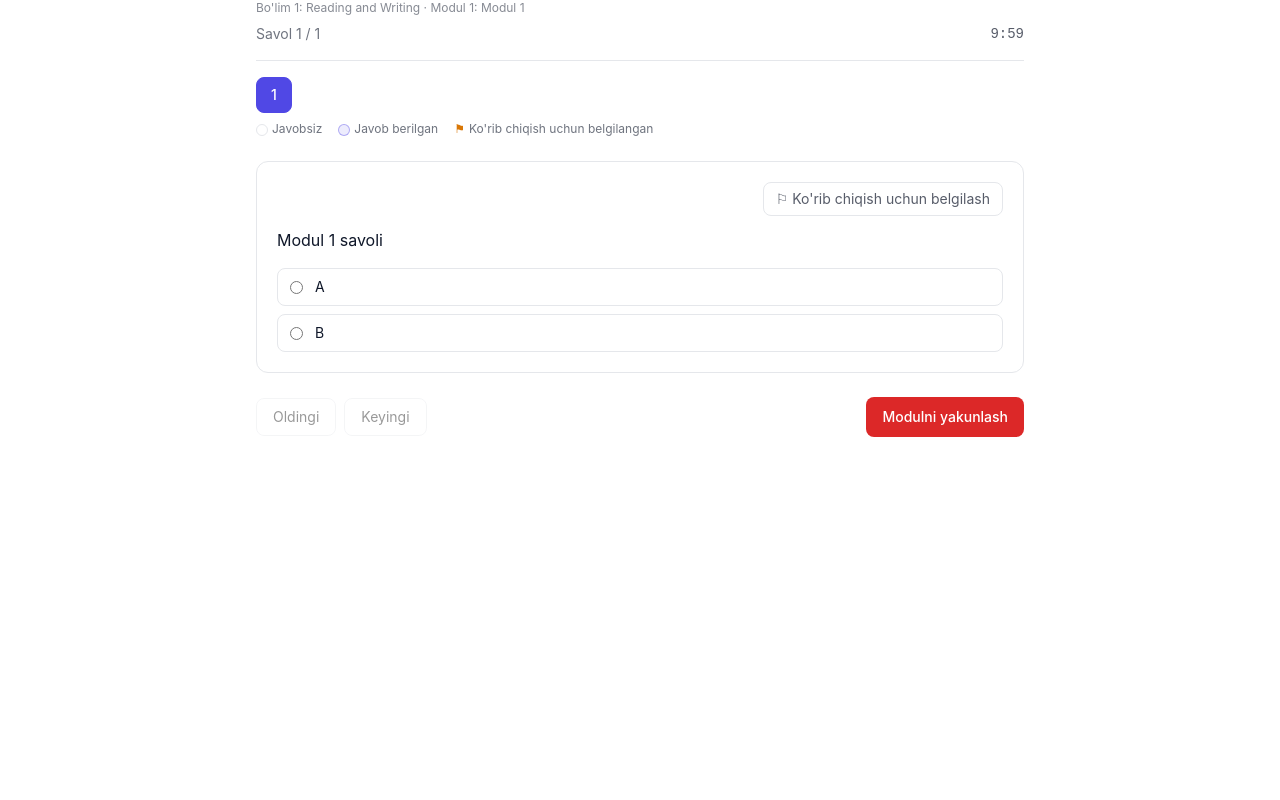
Scenario: AttemptPage — Sprint 76 modular exam UI › submits the module (not the whole attempt) and loads the next module on a non-final submit
Expected: the text "Modul 1 savoli" is shown, [277, 230, 383, 250]
Click the button "Modulni yakunlash": (945, 417) [866, 397, 1024, 437]
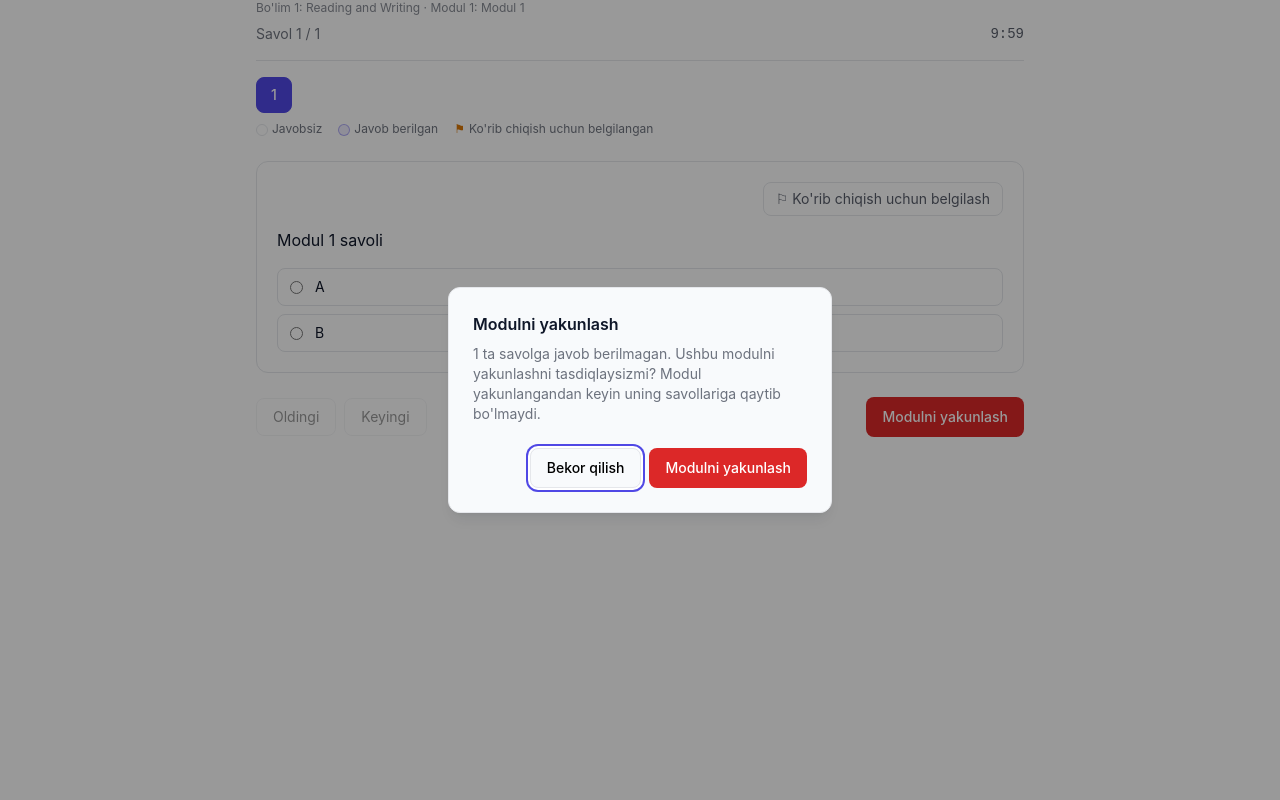
Click the button "Modulni yakunlash": (728, 468) [650, 448, 807, 488]
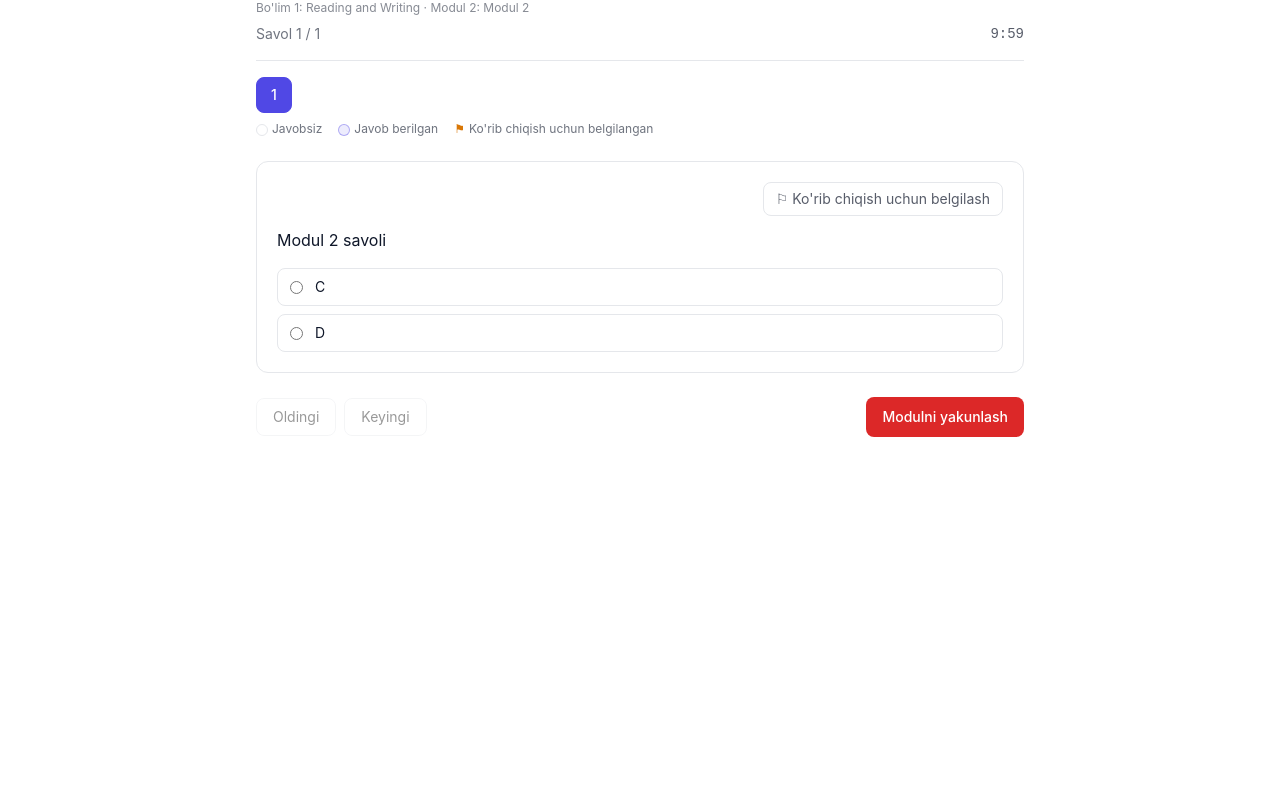
Now the text "Modul 2 savoli" is shown, box [277, 230, 386, 250]
